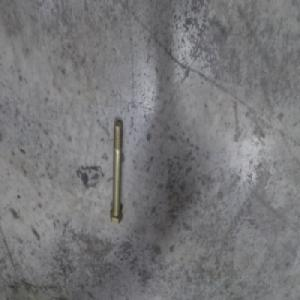Bolt: (108, 119, 126, 226)
